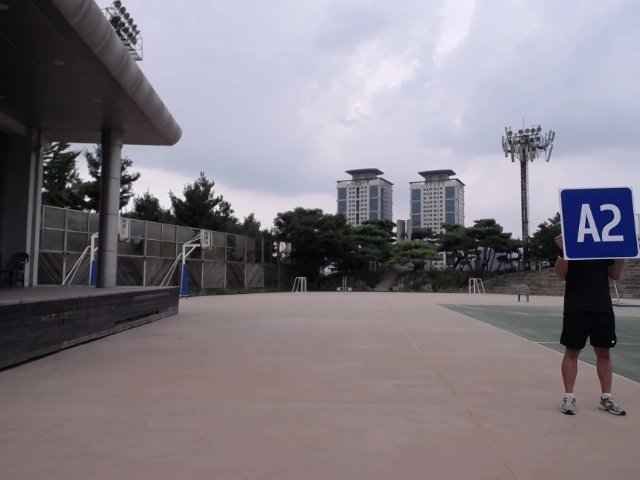delivery_a2: (559, 186, 639, 260)
